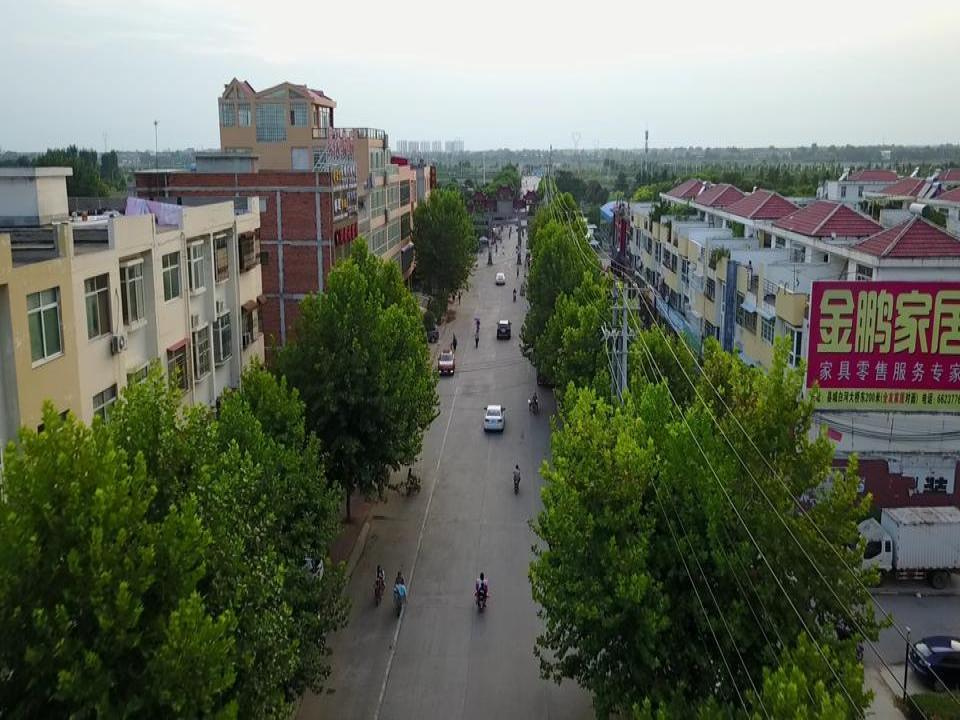car: (907, 636, 960, 692), (271, 549, 324, 587), (483, 402, 506, 431), (410, 322, 439, 342), (437, 348, 455, 375), (496, 318, 512, 338), (495, 272, 505, 285)
truck: (846, 505, 960, 591)
